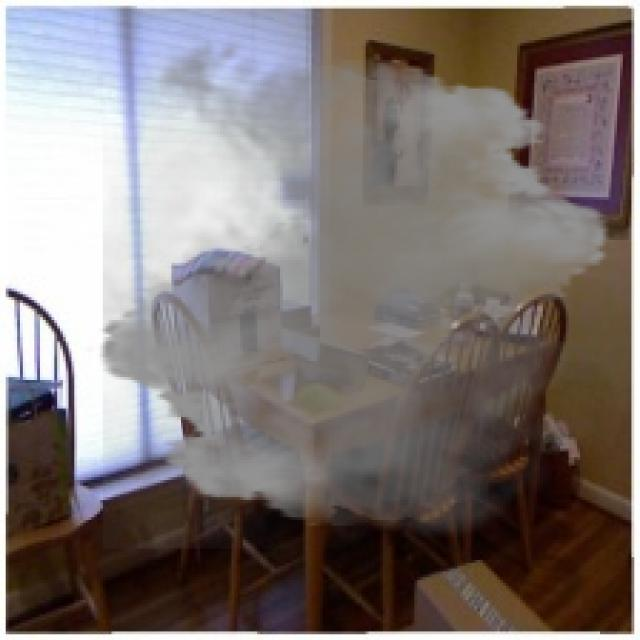smoke: (83, 23, 626, 548)
